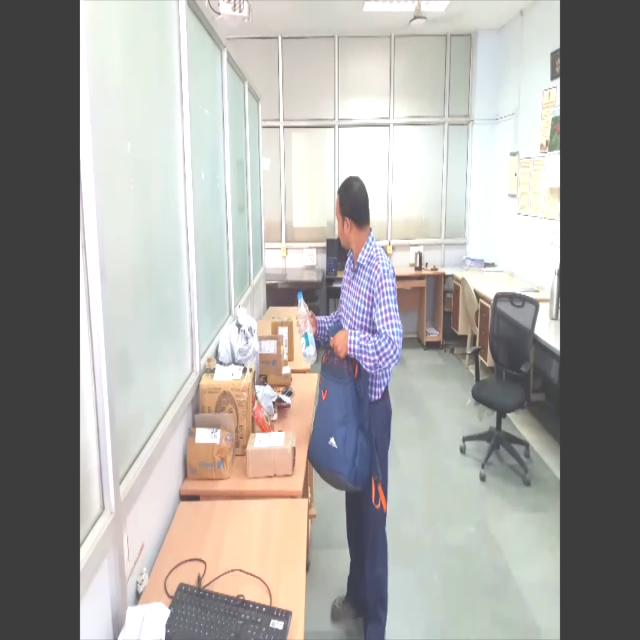normal: (291, 167, 408, 640)
